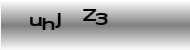3: (94, 12, 108, 26)
J: (53, 12, 62, 29)
Z: (82, 7, 96, 21)
h: (41, 17, 54, 30)
u: (28, 16, 42, 26)
